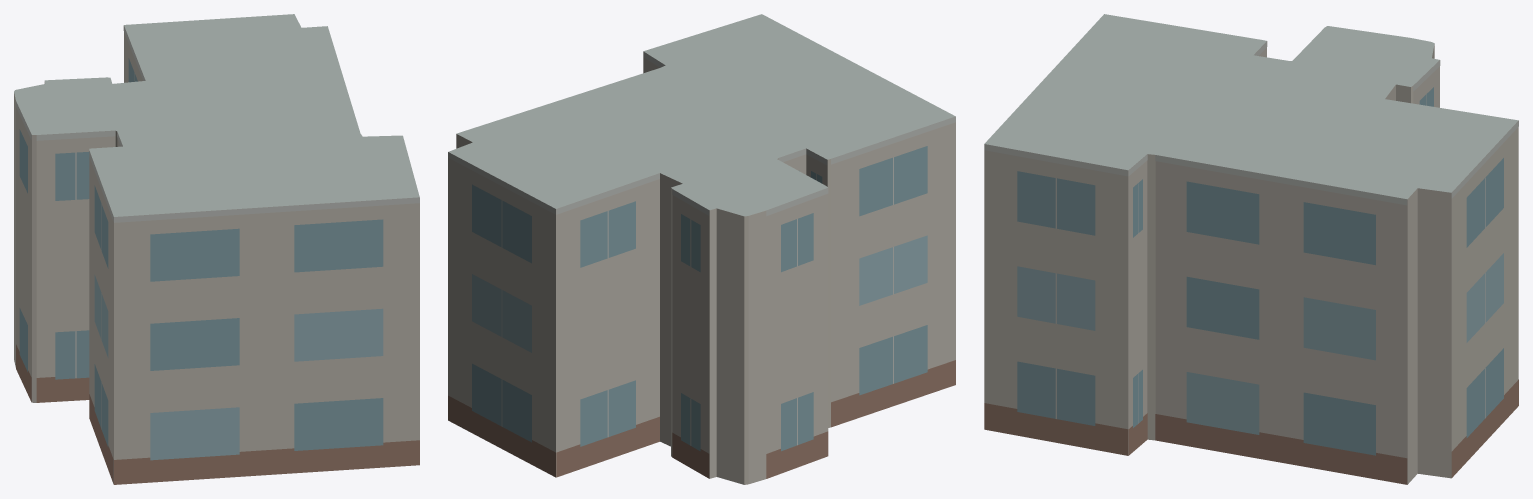
Rendered from survey-upis-32901709.glb.
The picture shows the model from 3 angles, left to right: view 1: azimuth 30°, elevation 25°; view 2: azimuth 150°, elevation 25°; view 3: azimuth 270°, elevation 25°; orthographic projection. The views are drawn at different scales.
Parts seen in each view (by area): view 1: survey-upis-32901709.tmp; view 2: survey-upis-32901709.tmp; view 3: survey-upis-32901709.tmp.
Boxes of the visible parts, box(x1,y1,x2,y2) form: survey-upis-32901709.tmp: box(14, 14, 419, 484); survey-upis-32901709.tmp: box(448, 14, 955, 484); survey-upis-32901709.tmp: box(984, 14, 1518, 484).
Bounding box in the file's own units: 15.59 × 11.2 × 19.01.
